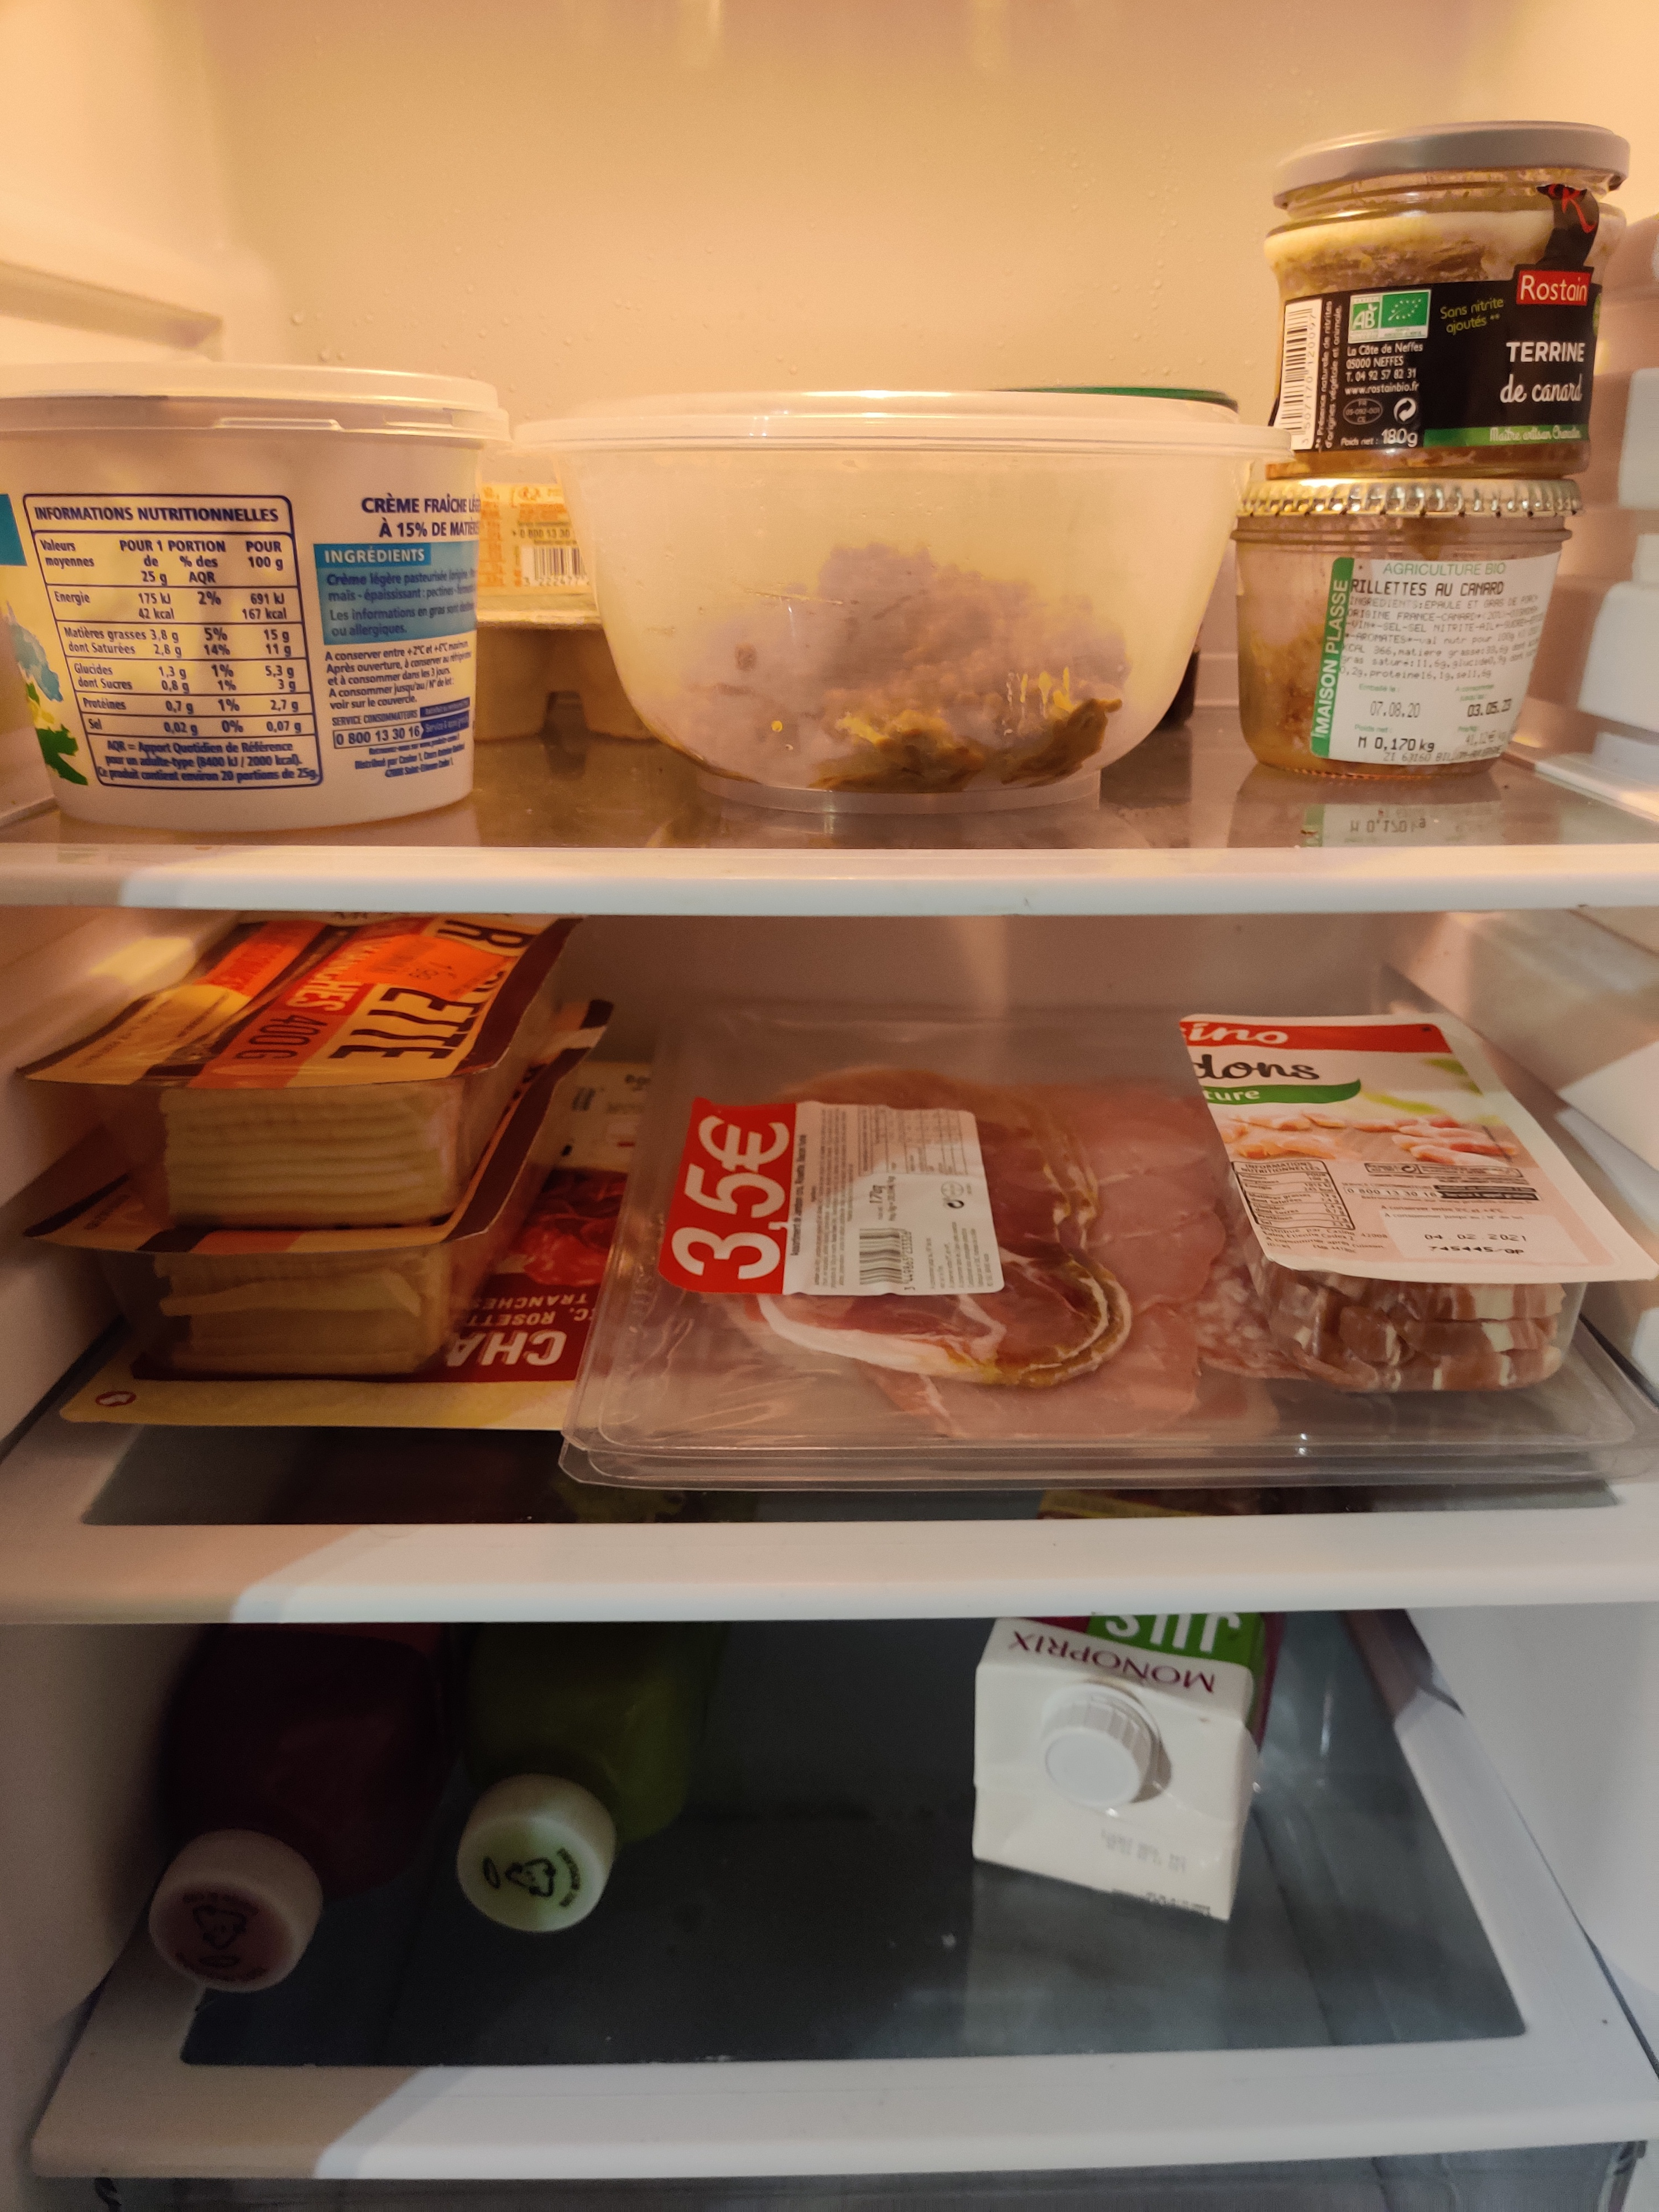bottle: (978, 1493, 1319, 1933), (145, 1632, 420, 1996), (450, 1629, 718, 1932)
